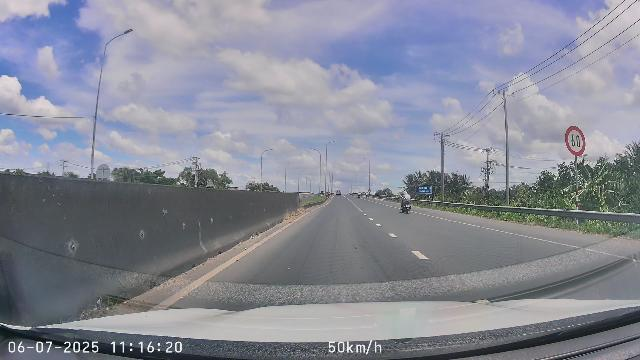127-toc-do-toi-da-60: (564, 125, 586, 156)
